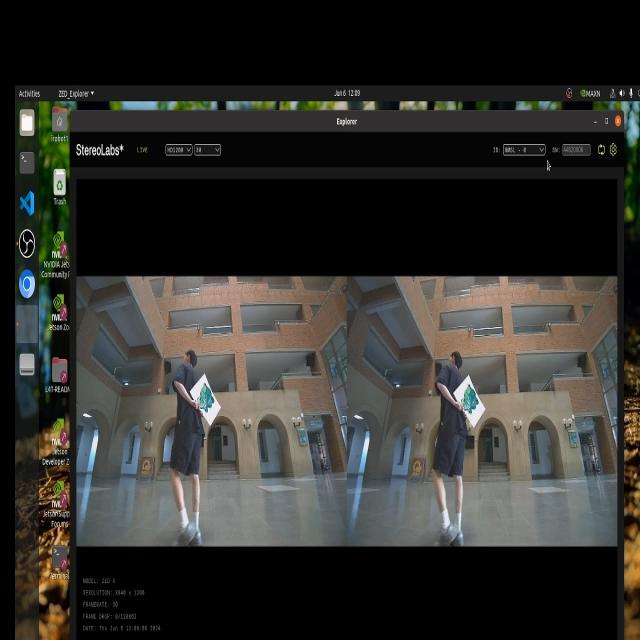green: (194, 383, 220, 418), (457, 382, 479, 419)
